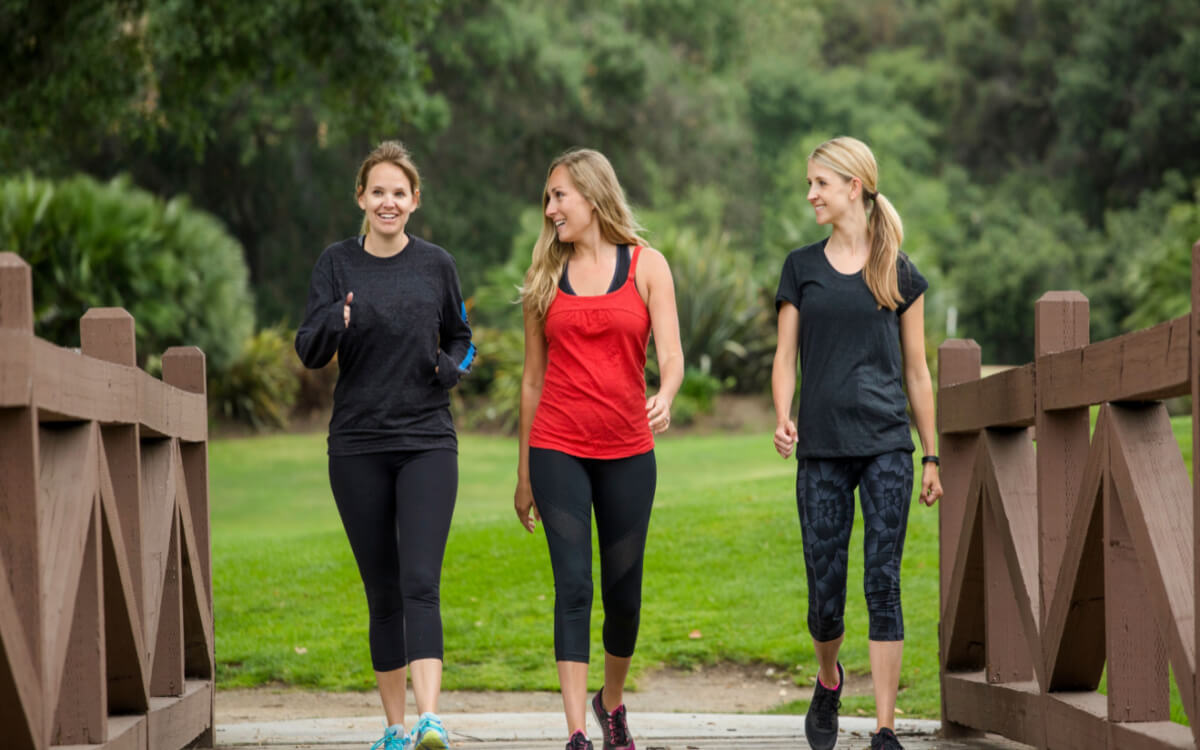face: (535, 144, 634, 251), (792, 136, 889, 231), (349, 144, 430, 240)
